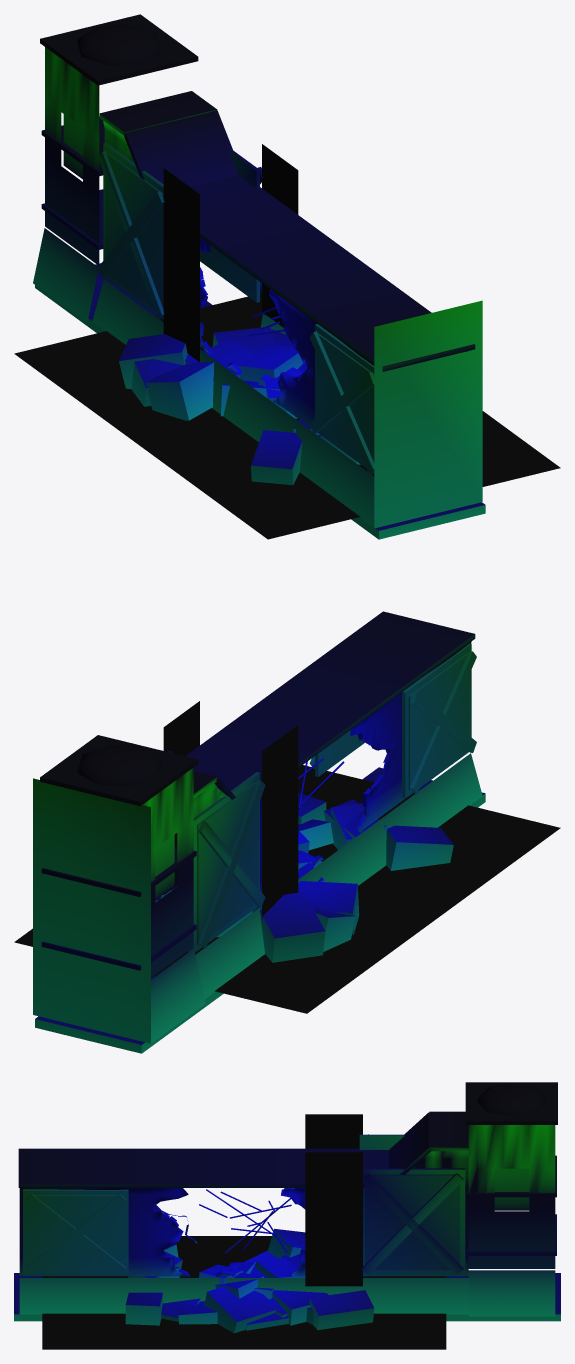
The model's file is l_mediumwall_damaged.glb.
3 views of the same model, one above another, from view 1: azimuth 30°, elevation 25°; view 2: azimuth 150°, elevation 25°; view 3: azimuth 270°, elevation 25° (orthographic). The views are drawn at different scales.
Parts seen in each view (by area): view 1: lod0; view 2: lod0; view 3: lod0.
Part boxes in pixels (bbox=[...]): lod0: bbox=[14, 14, 560, 539]; lod0: bbox=[14, 611, 560, 1053]; lod0: bbox=[14, 1082, 560, 1349].
Size of what is drawn, in the model's own units: 14 by 12.26 by 28.45.
